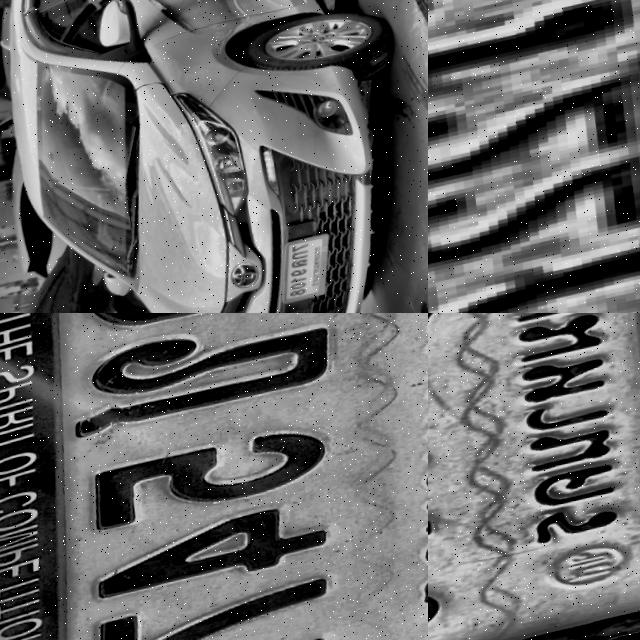license-plate: (0, 313, 428, 640), (428, 313, 640, 640), (428, 0, 640, 313), (270, 236, 345, 313)
